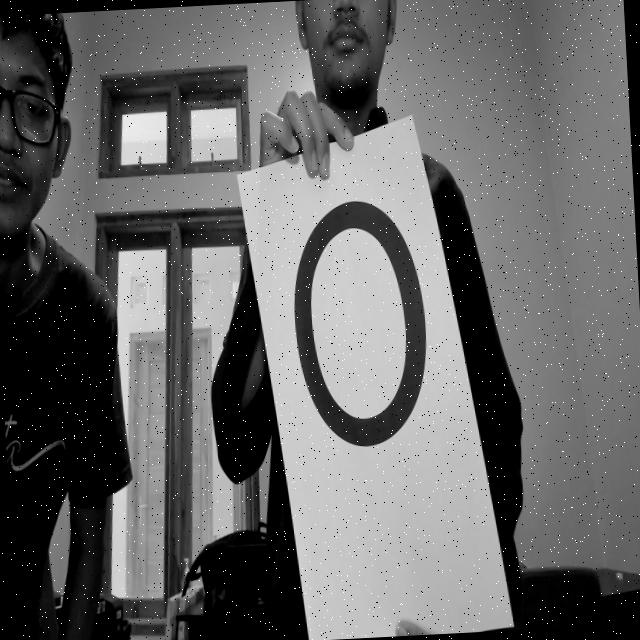o: (274, 173, 450, 503)
